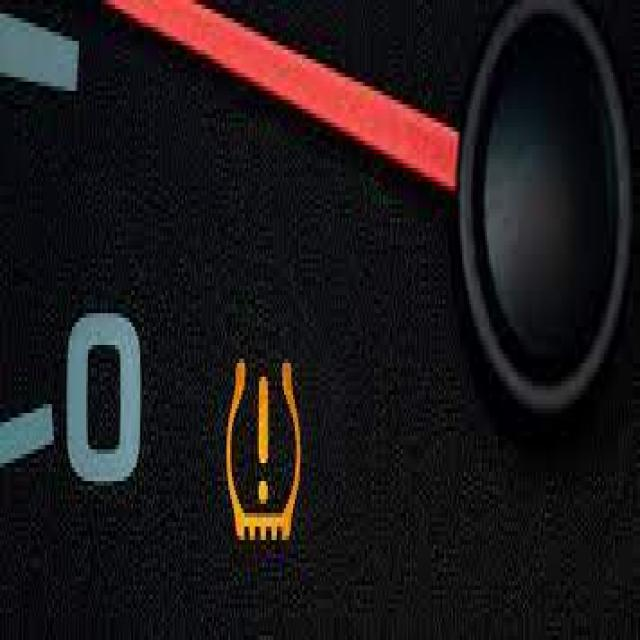kontrolka: (214, 322, 324, 563)
